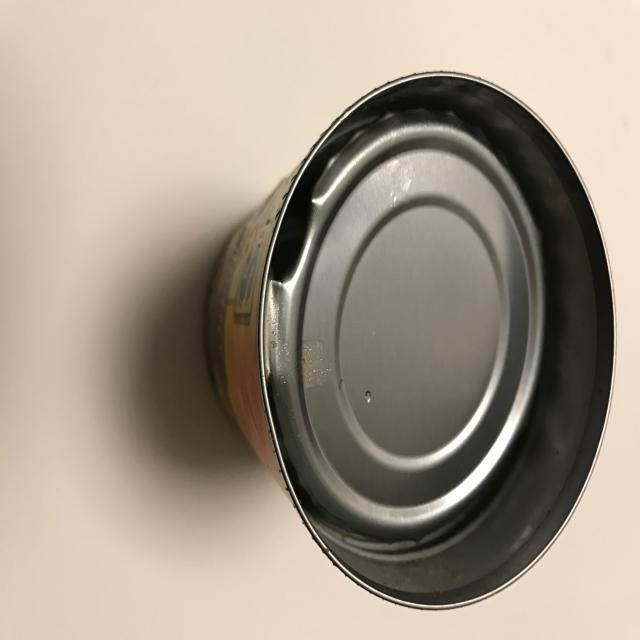metal: (201, 71, 617, 614)
